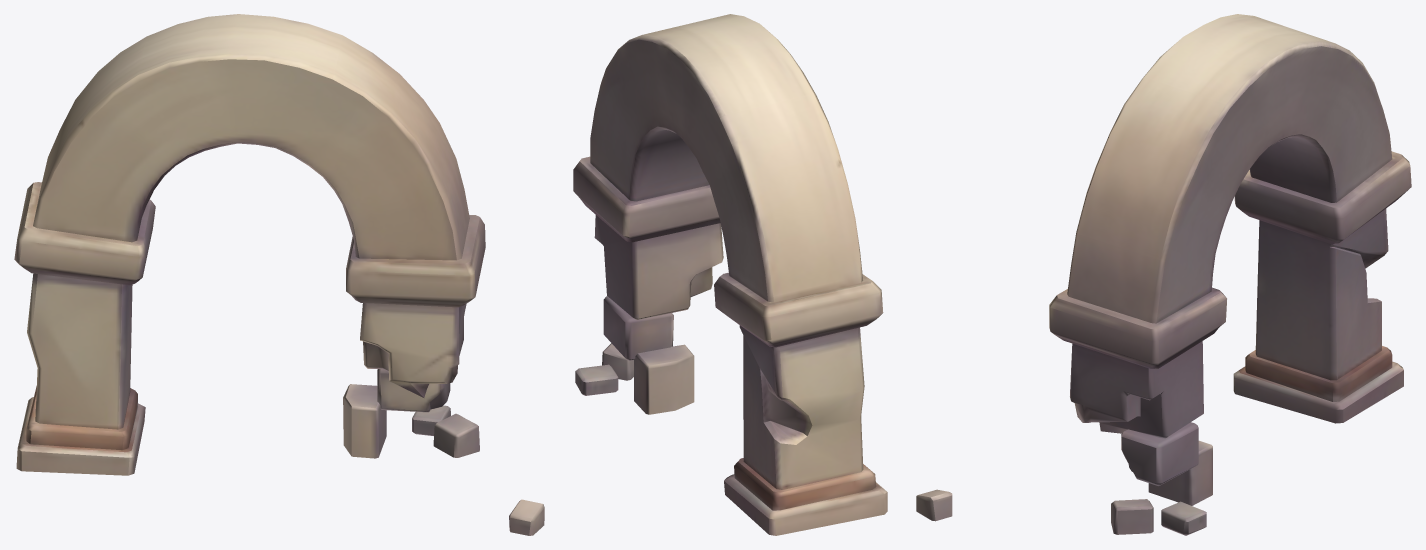
Rendered from SM_RuinSingle_01.fbx.
3 views of the same model, side by side, from view 1: azimuth 30°, elevation 25°; view 2: azimuth 150°, elevation 25°; view 3: azimuth 270°, elevation 25° (orthographic). The views are drawn at different scales.
Parts seen in each view (by area): view 1: SM_RuinSingle_01; view 2: SM_RuinSingle_01; view 3: SM_RuinSingle_01.
Part boxes in pixels (left/top/right/bottom): SM_RuinSingle_01: left=14, top=14, right=544, bottom=535; SM_RuinSingle_01: left=573, top=14, right=887, bottom=535; SM_RuinSingle_01: left=916, top=14, right=1411, bottom=535.
Size of the model in its own units: 62.09 by 62.62 by 68.51.
1 material, 1 textured.
